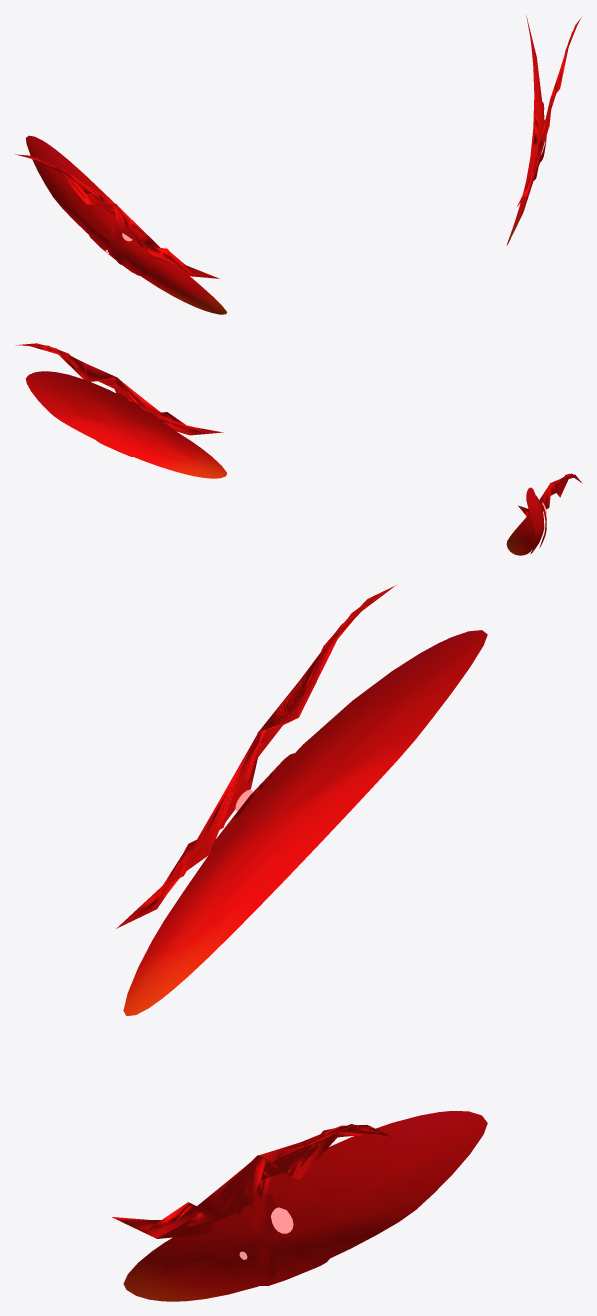
The model's file is GXR_EYES_01_PREDATOR.glb.
The picture shows the model from 3 angles, top to bottom: view 1: azimuth 30°, elevation 25°; view 2: azimuth 150°, elevation 25°; view 3: azimuth 270°, elevation 25°; orthographic projection. The views are drawn at different scales.
Parts seen in each view (by area): view 1: Mesh_EyeSurface_R.009, Mesh_Living_Eyelid_R.005, Mesh_Iris_Detailed_R.005, Mesh_EyeSurface_L.009, Mesh_Living_Eyelid_L.005, Mesh_Iris_Detailed_L.005, Mesh_Pupil_Detailed_R.005; view 2: Mesh_EyeSurface_L.009, Mesh_Living_Eyelid_L.005, Mesh_EyeSurface_R.009, Mesh_Living_Eyelid_R.005; view 3: Mesh_EyeSurface_R.009, Mesh_EyeSurface_L.009, Mesh_Iris_Detailed_L.005, Mesh_Living_Eyelid_L.005, Mesh_Living_Eyelid_R.005, Mesh_Pupil_Detailed_L.005.
Boxes of the visible parts, x1,y1,x2,y2 form: Mesh_EyeSurface_R.009: (25, 135, 226, 314); Mesh_Living_Eyelid_R.005: (15, 154, 219, 278); Mesh_Iris_Detailed_R.005: (85, 208, 155, 276); Mesh_EyeSurface_L.009: (506, 15, 541, 245); Mesh_Living_Eyelid_L.005: (517, 17, 581, 206); Mesh_Iris_Detailed_L.005: (532, 101, 544, 180); Mesh_Pupil_Detailed_R.005: (109, 222, 124, 264); Mesh_EyeSurface_L.009: (25, 371, 226, 478); Mesh_Living_Eyelid_L.005: (15, 343, 223, 435); Mesh_EyeSurface_R.009: (506, 487, 542, 555); Mesh_Living_Eyelid_R.005: (518, 473, 582, 516); Mesh_EyeSurface_R.009: (123, 630, 487, 1015); Mesh_EyeSurface_L.009: (123, 1111, 487, 1301); Mesh_Iris_Detailed_L.005: (209, 1172, 337, 1286); Mesh_Living_Eyelid_L.005: (112, 1124, 396, 1238); Mesh_Living_Eyelid_R.005: (116, 585, 396, 928); Mesh_Pupil_Detailed_L.005: (252, 1194, 281, 1277).
Bounding box in the file's own units: 0.4852 × 0.1196 × 0.1398.
